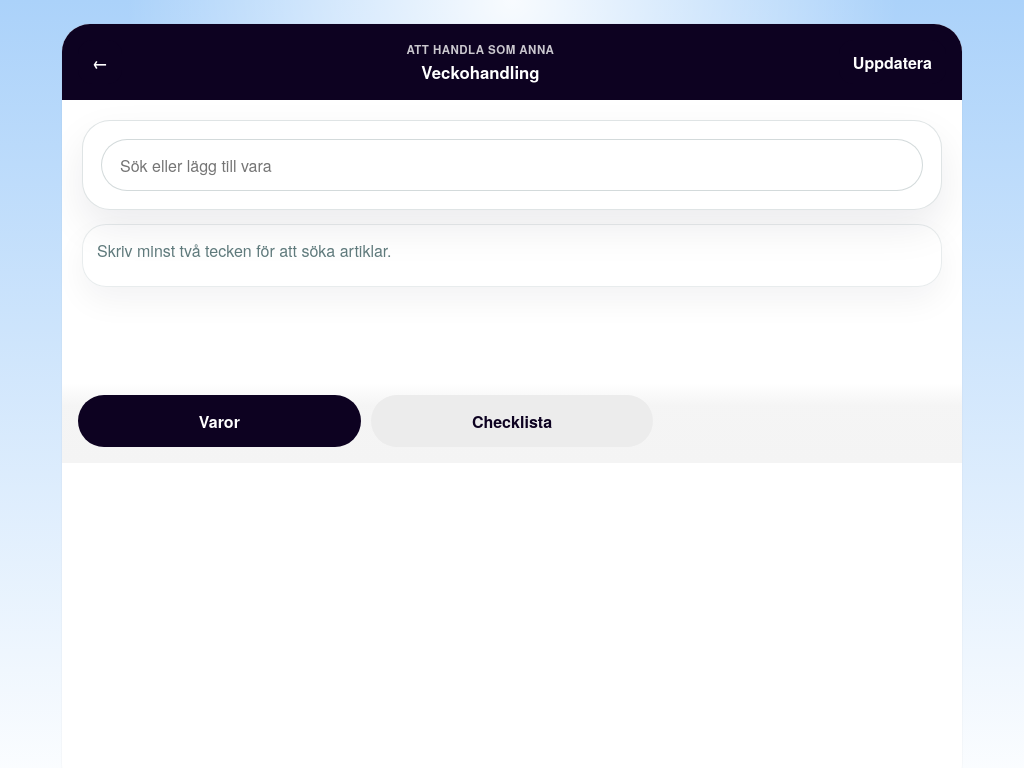
ShoppingListDetailPage › debounces repeated retailer result adds into one request
Expected: the text "Veckohandling" is shown, [421, 60, 540, 84]
Type "kaffe" into the field named "Sök artikel".
click(512, 165); type("kaffe")  # box [101, 139, 923, 191]
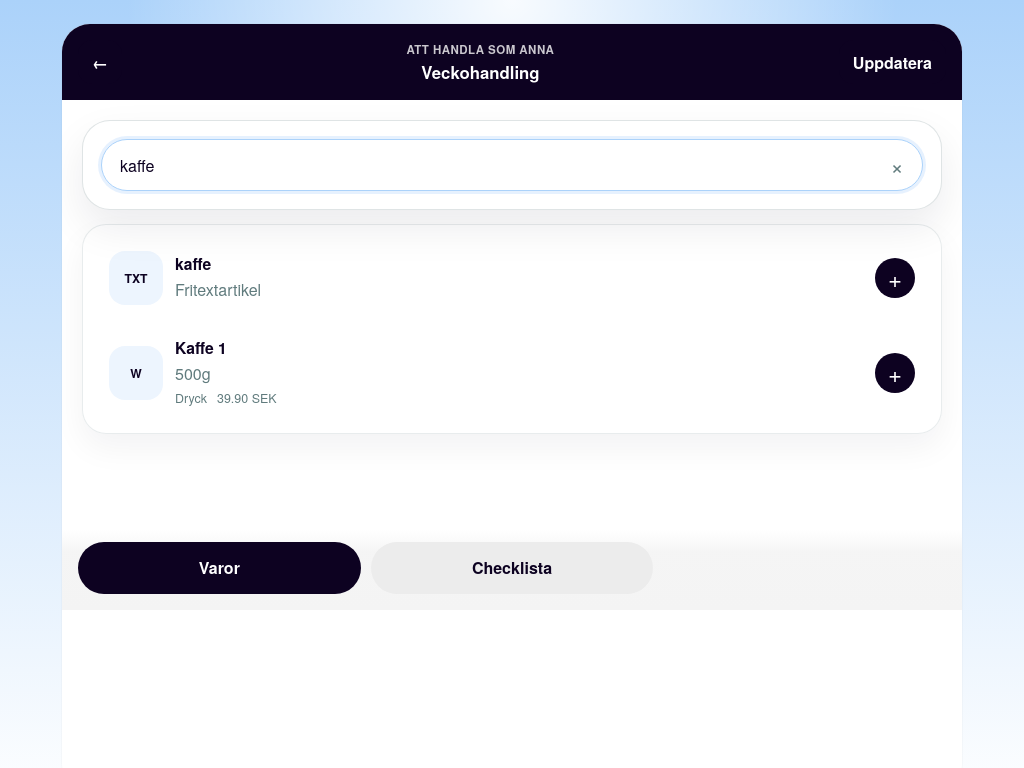
Click the button named "Lägg till Kaffe 1".
click(895, 373)  # box [875, 353, 915, 393]
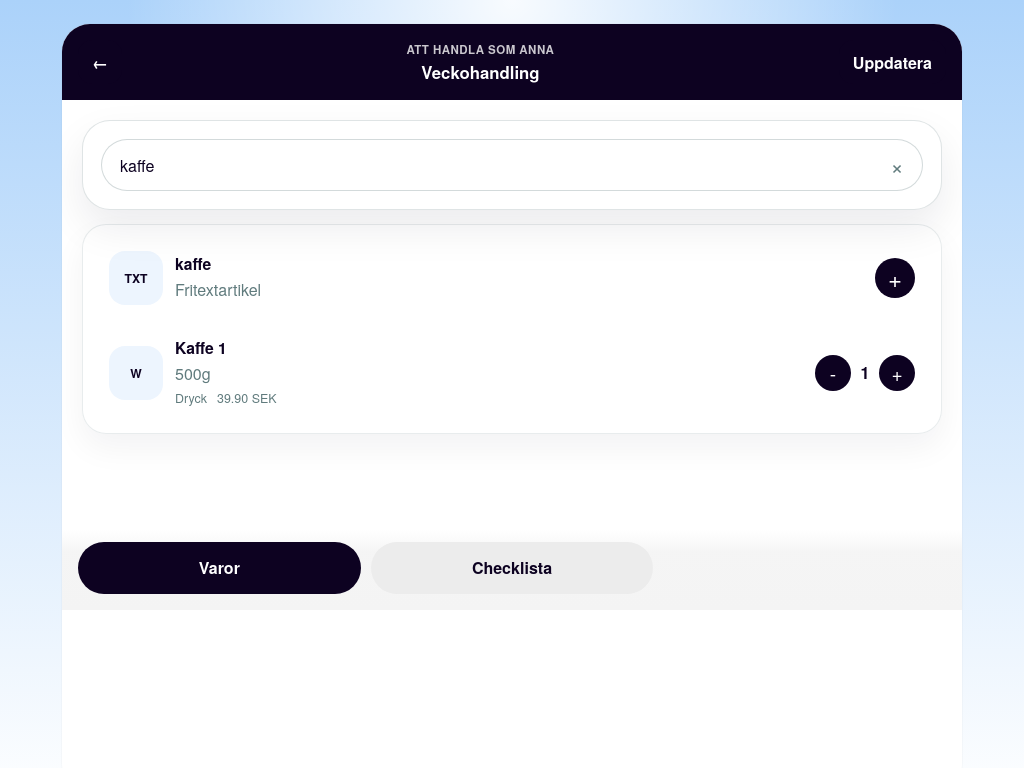
Click the button named "Öka Kaffe 1".
click(897, 373)  # box [879, 355, 915, 391]
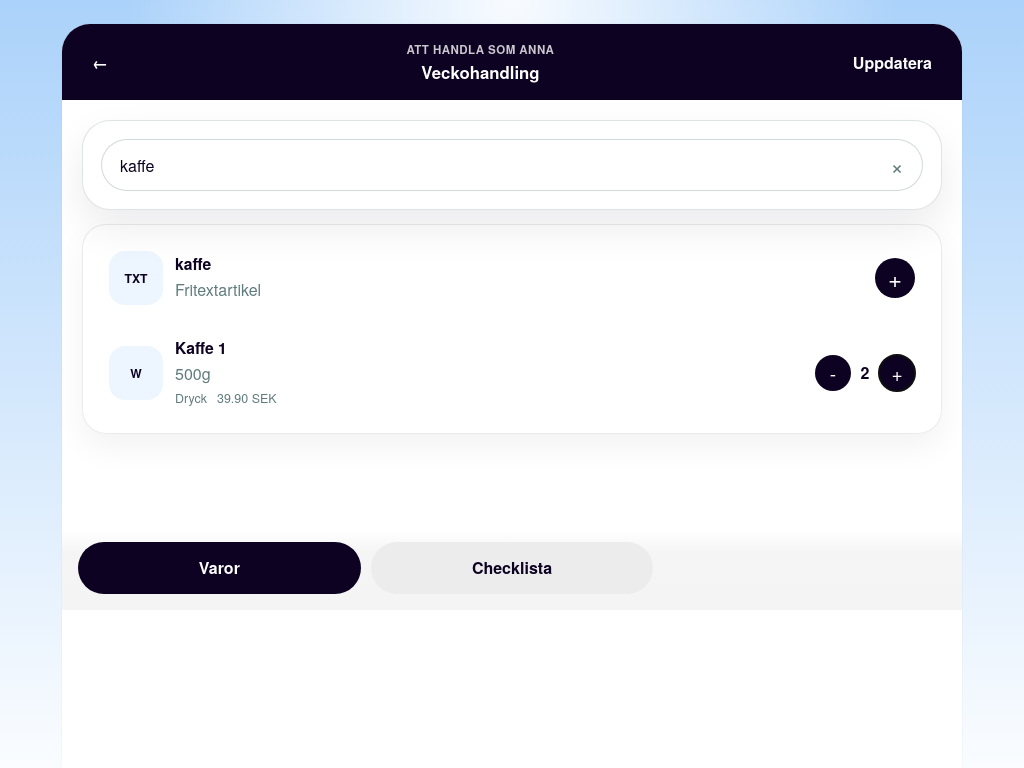
Click the button named "Öka Kaffe 1".
click(897, 373)  # box [879, 355, 915, 391]
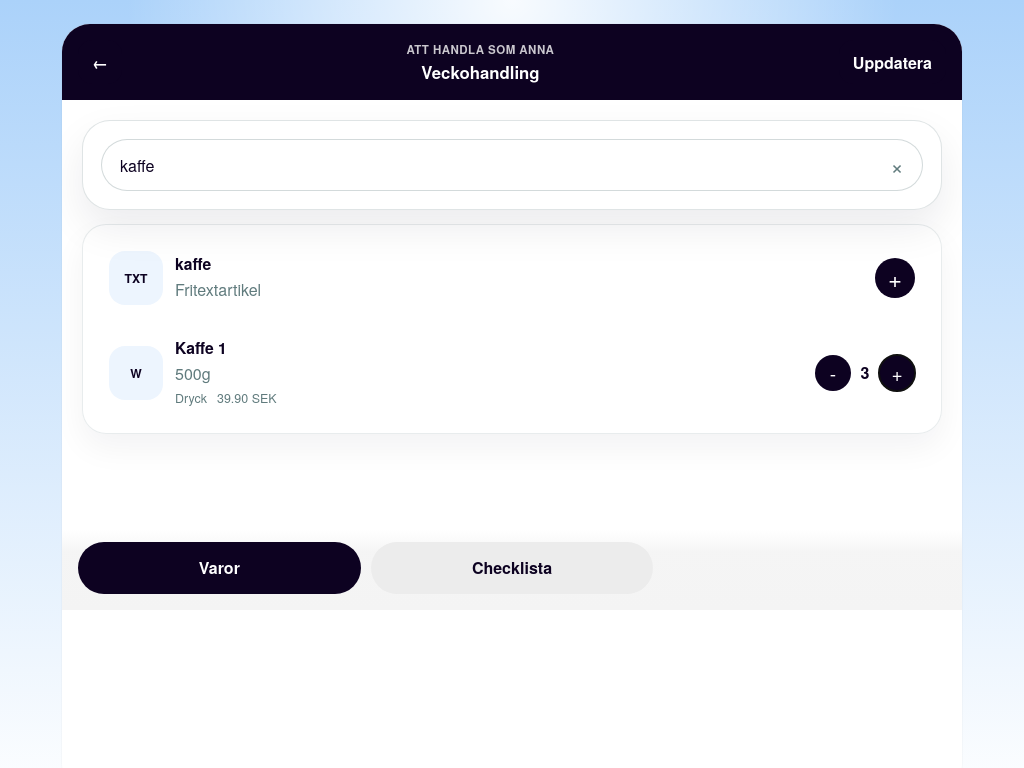
Click the button named "Öka Kaffe 1".
click(897, 373)  # box [879, 355, 915, 391]
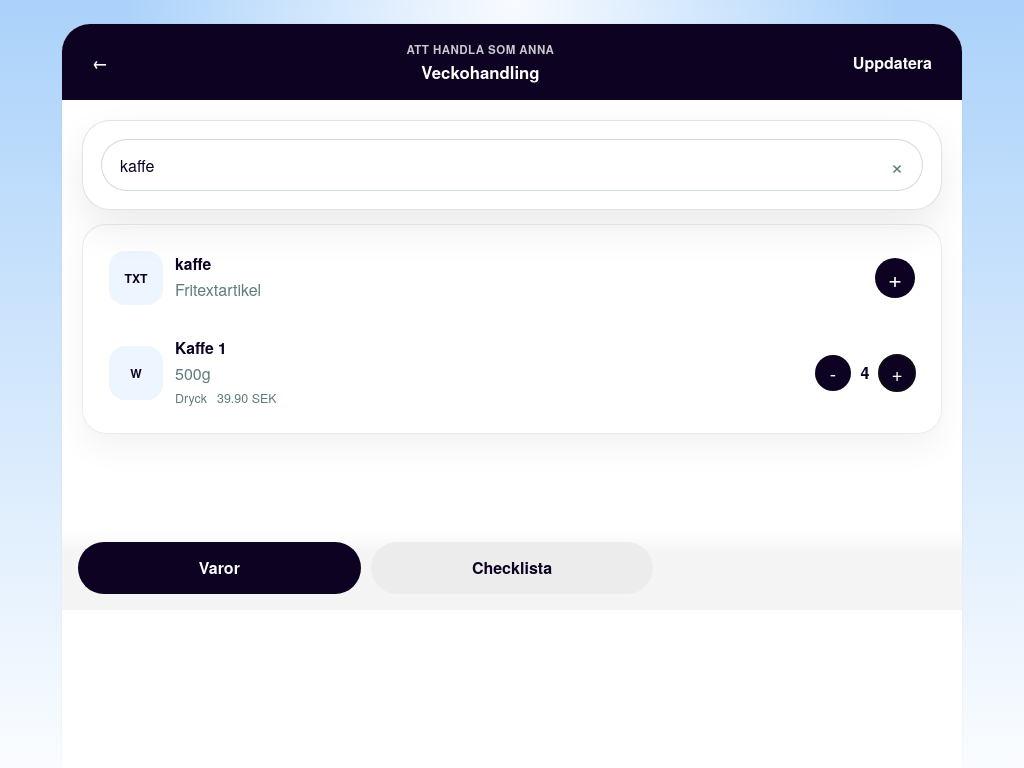
Click the button named "Öka Kaffe 1".
click(897, 373)  # box [879, 355, 915, 391]
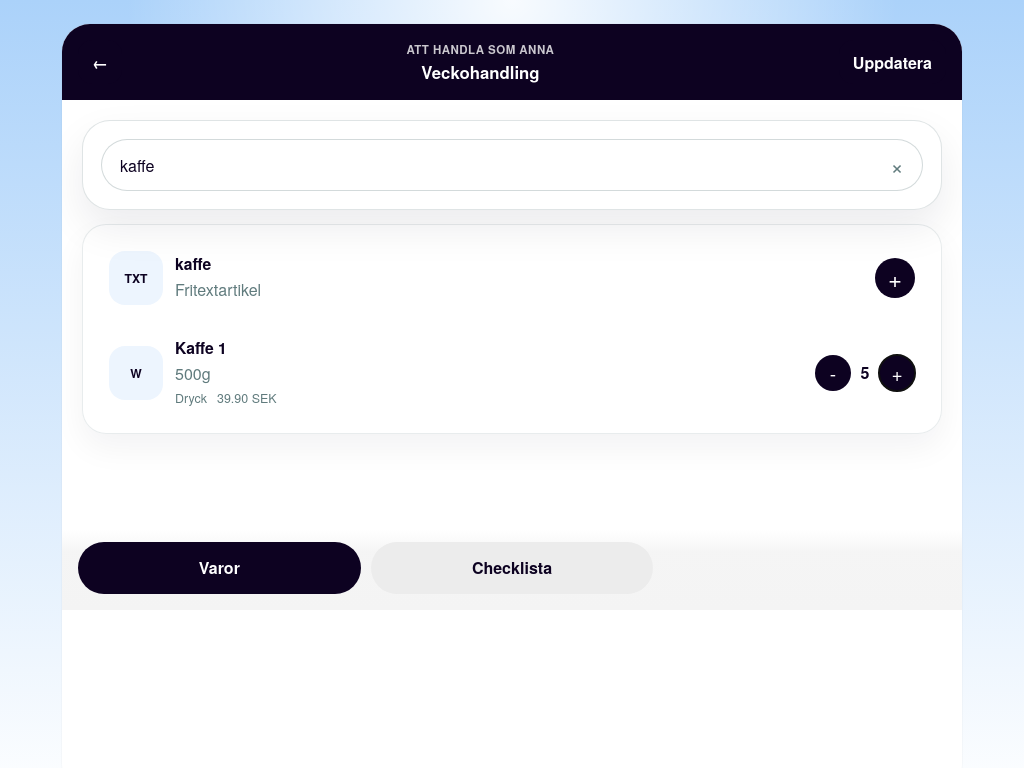
Expected: the element named "Antal för Kaffe 1" shows "5", [860, 361, 869, 384]
